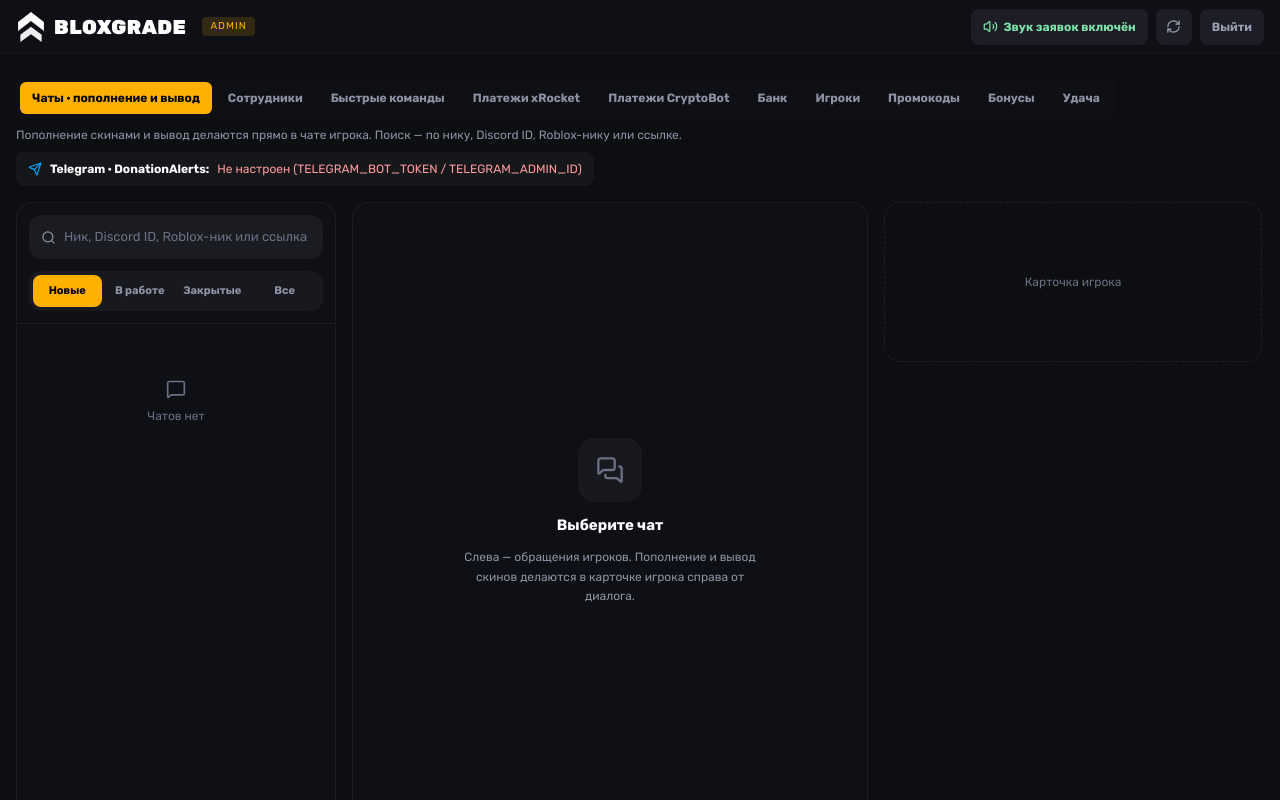
Scenario: promo tab loads promo statistics without requesting deposit statuses
The width and height of the screenshot is (1280, 800).
Later steps or results of the test are not shown.
Click the button "Промокоды" at (924, 98), box [876,82,972,114]
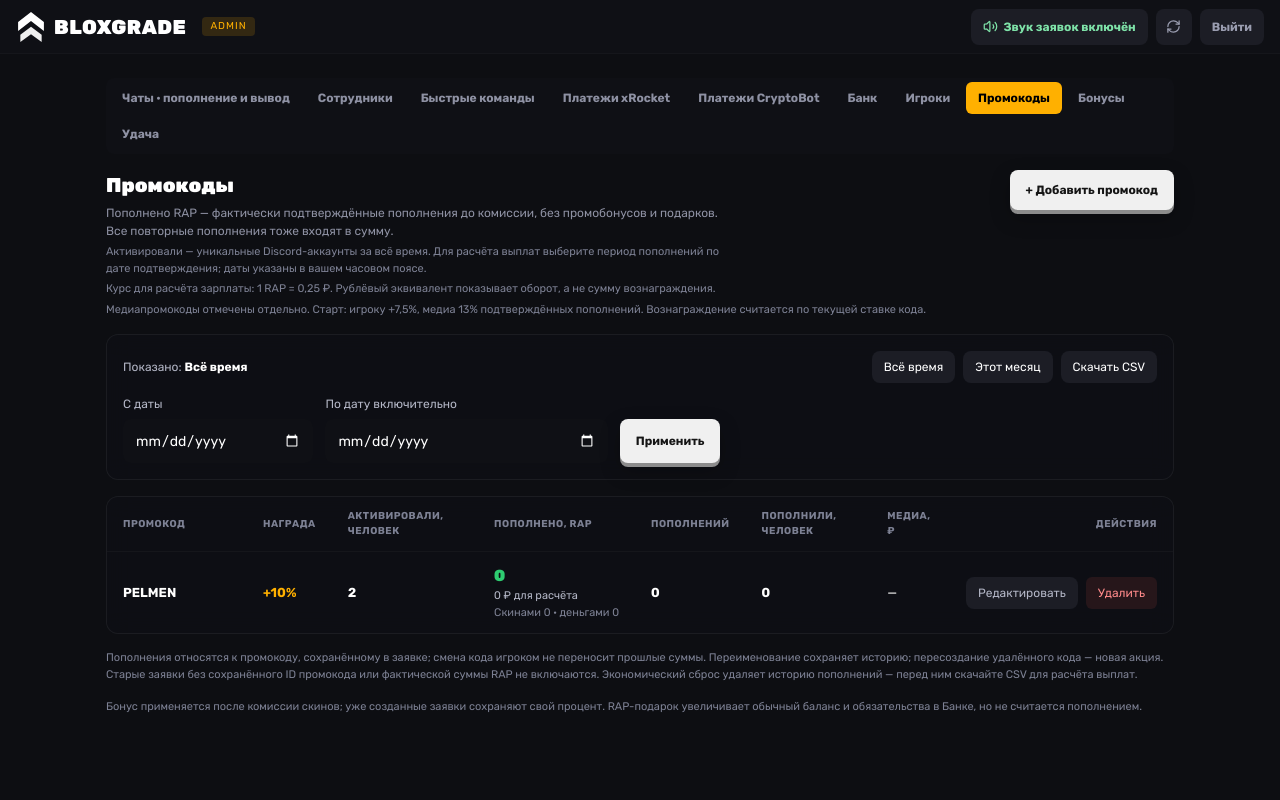
Check: the cell "2" is shown, box [332,552,478,633]
